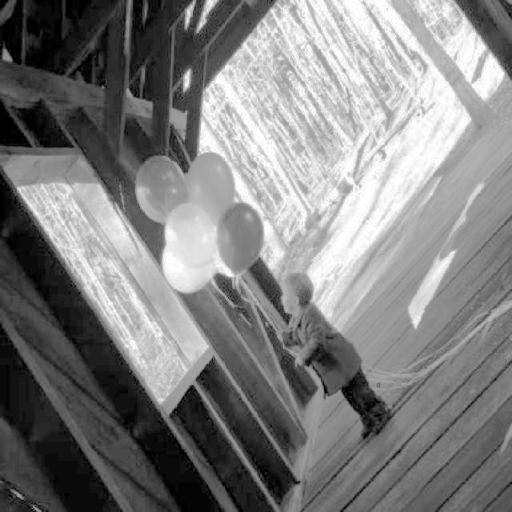balloon: (212, 198, 270, 284), (128, 151, 190, 227), (159, 199, 223, 272), (158, 241, 222, 299), (190, 148, 235, 229)
